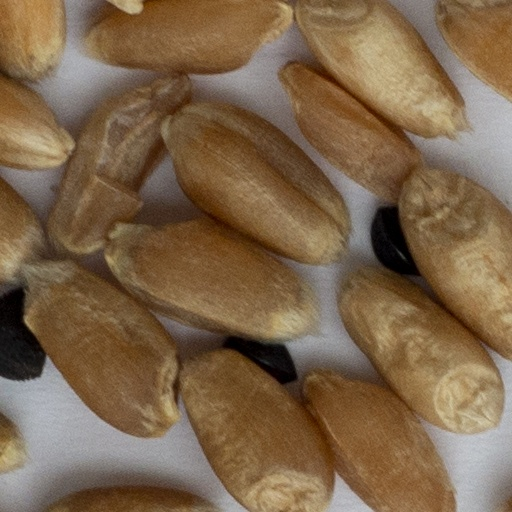Agrostemma-poly: (0, 289, 44, 379)
Fallopia-Convolvulus-poly: (223, 337, 295, 381), (372, 209, 417, 277)
